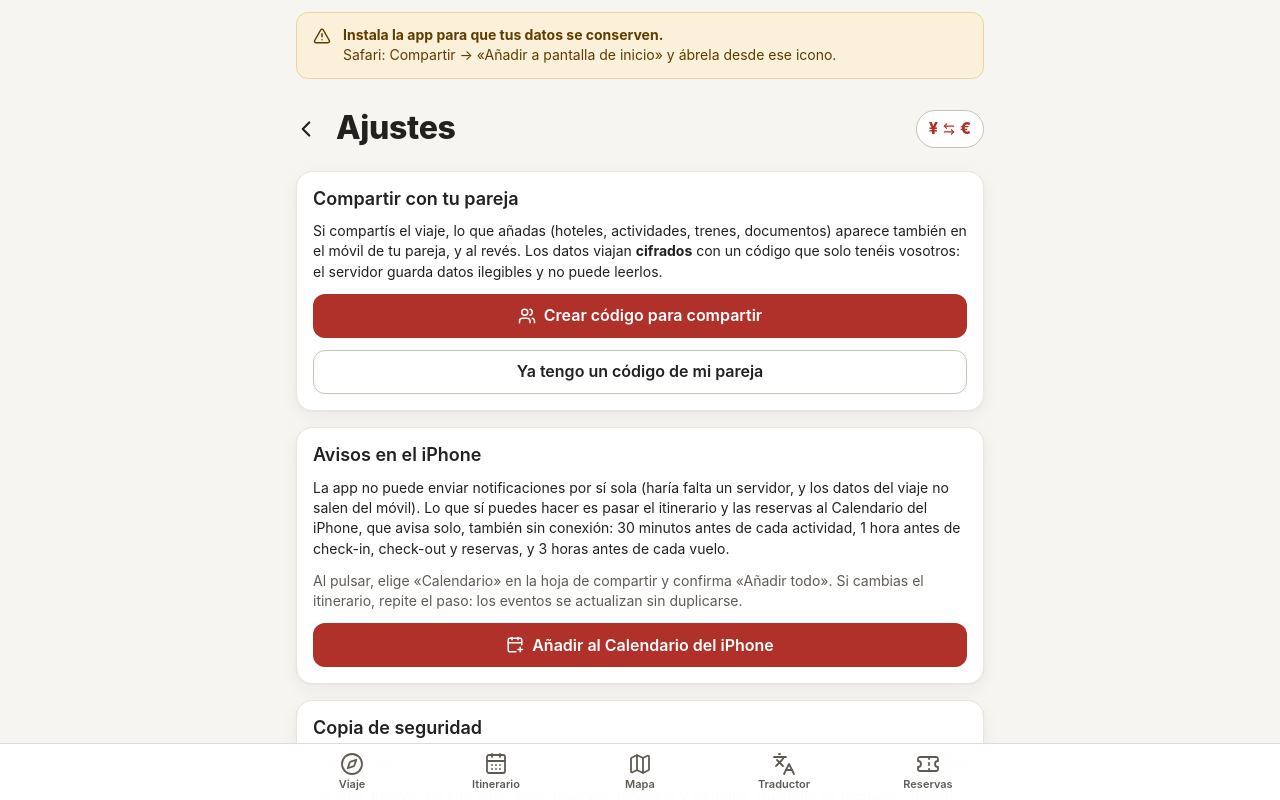
Test: itinerario, día de vuelo y calendario › Ajustes explica las notificaciones y avisa si no hay nada que exportar al calendario
expect the heading "Avisos en el iPhone" is shown: met, box [313,444,482,466]
Click the button "Añadir al Calendario del iPhone".
click(640, 646)  # box [313,624,967,668]
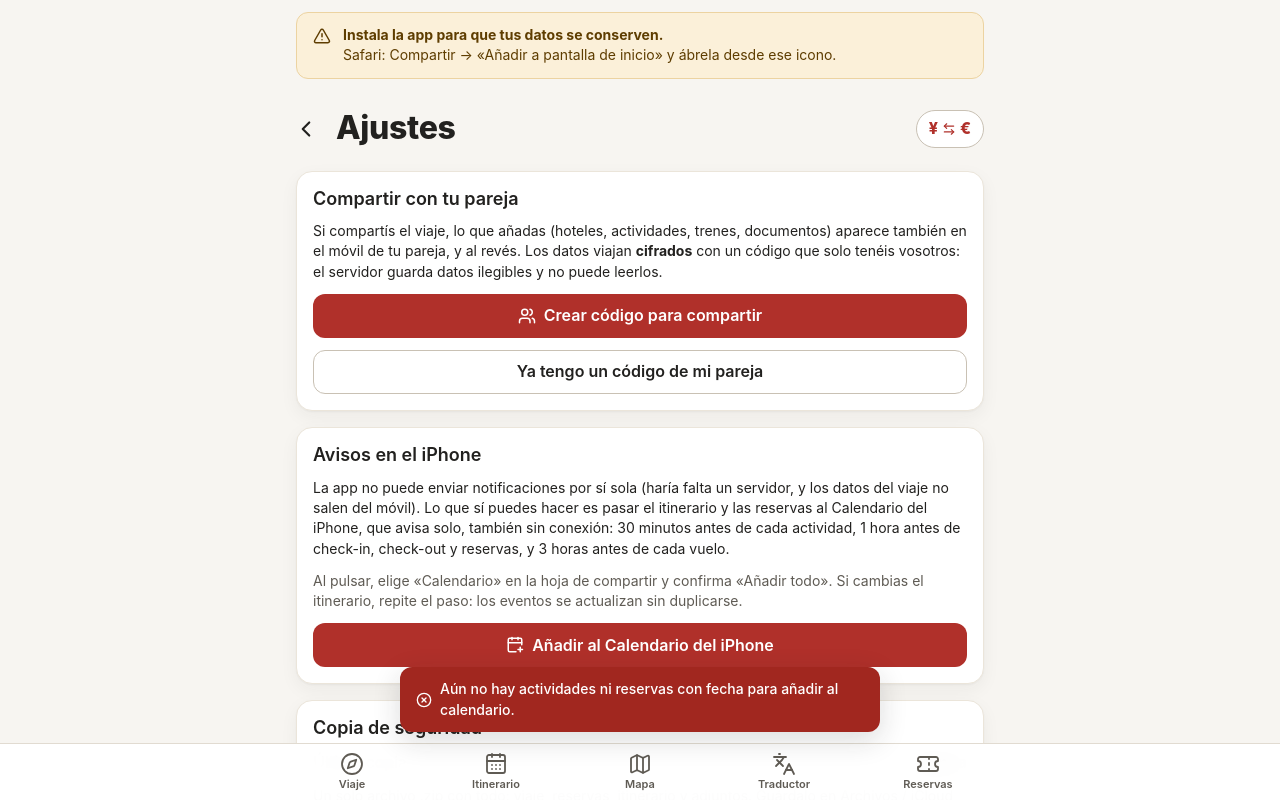
expect the text "Aún no hay actividades ni reservas con fecha" is shown: met, box [440,680,838,718]
